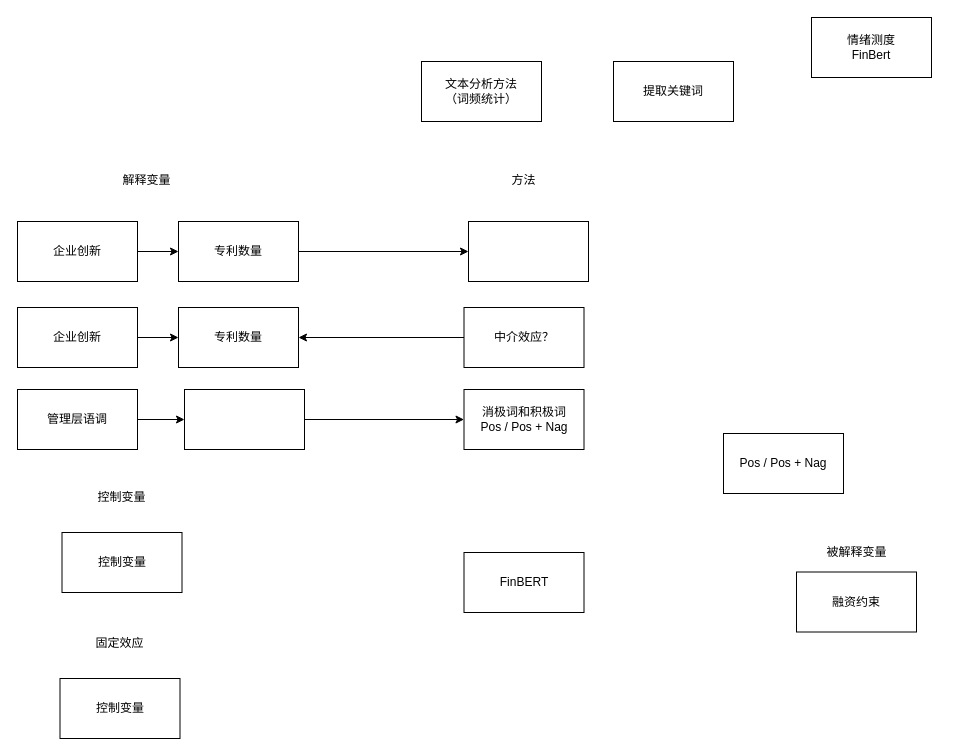
Image size: 963x756. Some labels were removed from this diagram. Here are the shapes that lost their labels. From the top down, the box of each, then its label:
(468, 220, 588, 282): 关键词在不同领域
(184, 388, 304, 450): M&D
